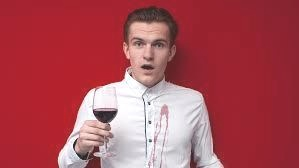wine: (159, 103, 170, 133), (143, 146, 157, 167), (152, 127, 159, 168), (160, 130, 166, 168)
